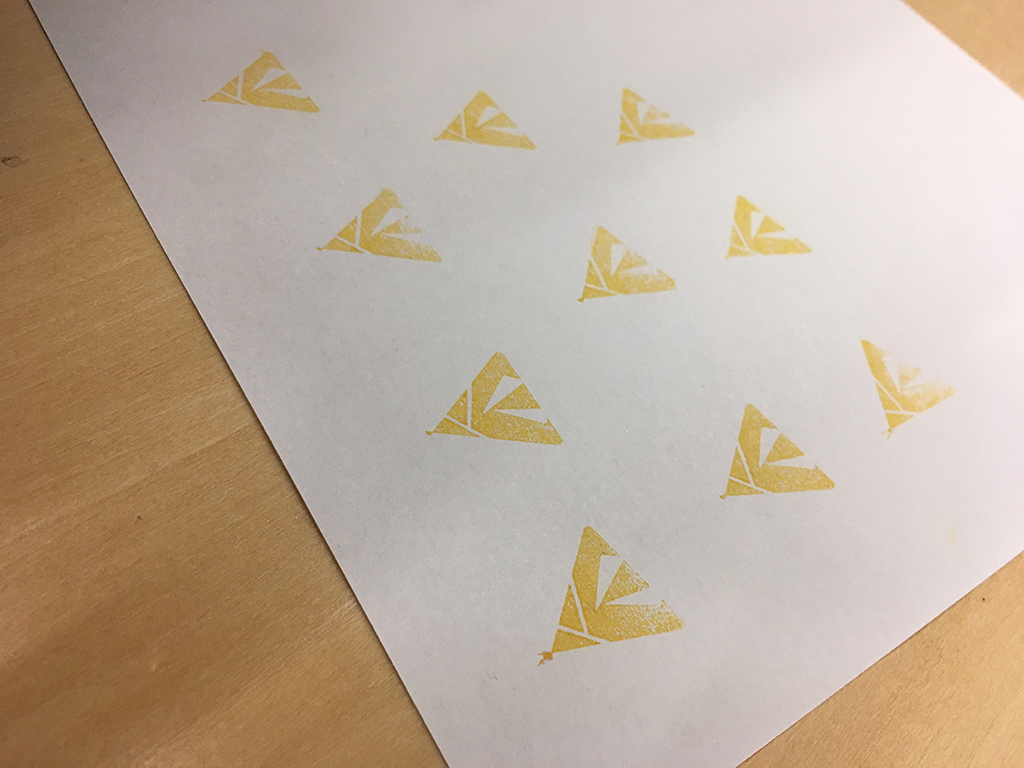tent: (525, 521, 698, 670), (417, 335, 572, 461), (713, 392, 840, 514), (303, 180, 451, 274), (856, 333, 966, 446), (196, 43, 334, 125), (570, 218, 681, 317), (715, 176, 817, 278), (420, 79, 543, 159), (604, 79, 703, 158)
